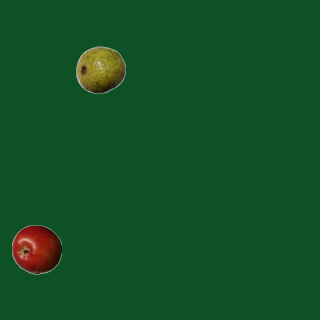Apple Braeburn: (11, 224, 61, 274)
Guava: (75, 44, 125, 94)
